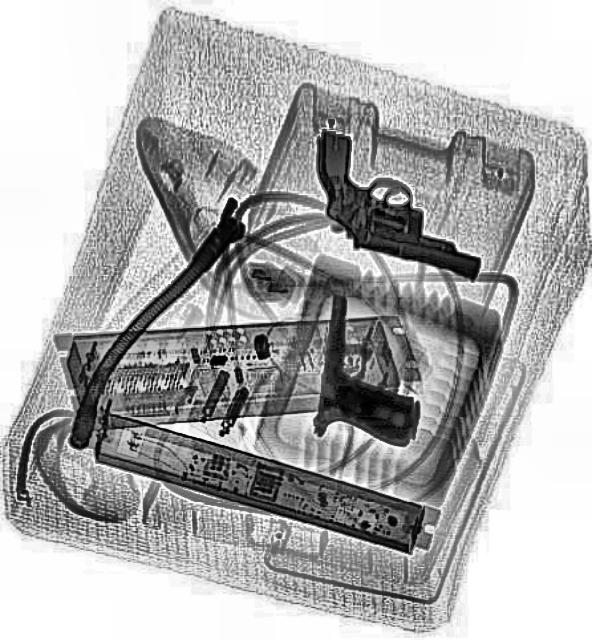Gun: (290, 125, 502, 277), (310, 294, 428, 444)
